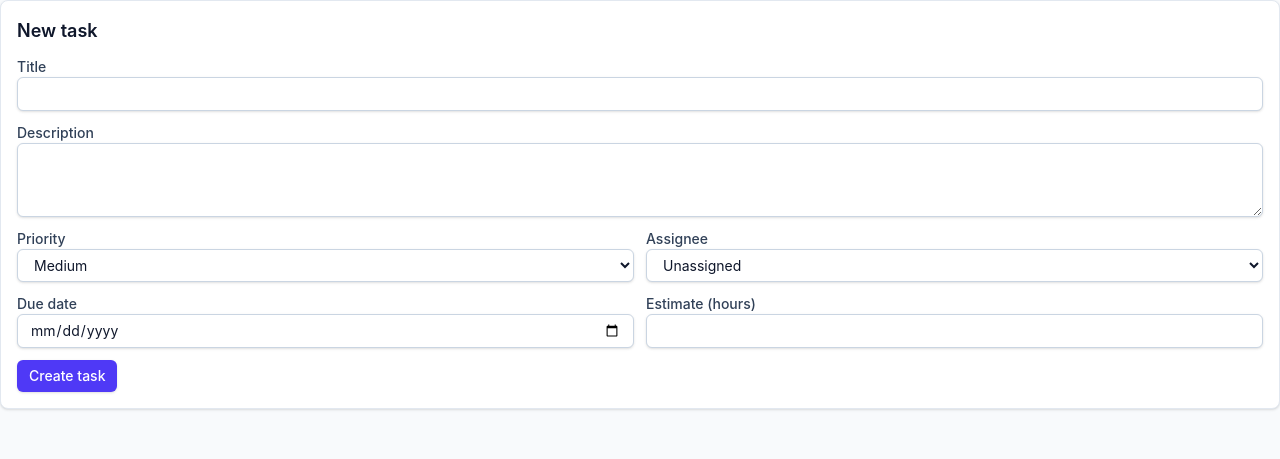
Test: CreateTaskForm submission › posts the task, reports it and resets the form
Type "  Plan the launch " into the field labelled "Title".
click(640, 94); type("  Plan the launch ")  # box [17,77,1263,111]
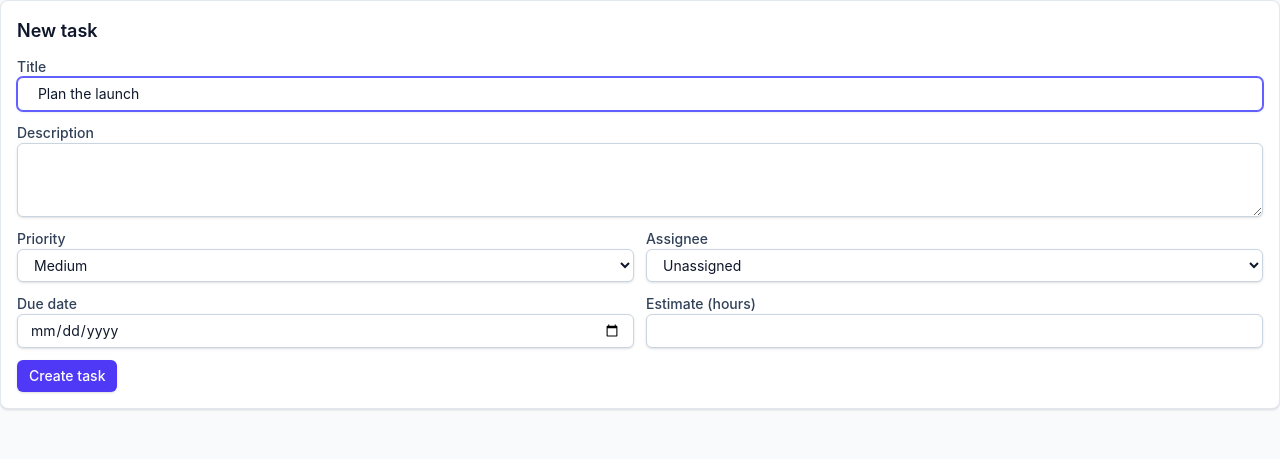
Select "High" in the dropdown labelled "Priority" at [326, 266], box [17,249,634,282]
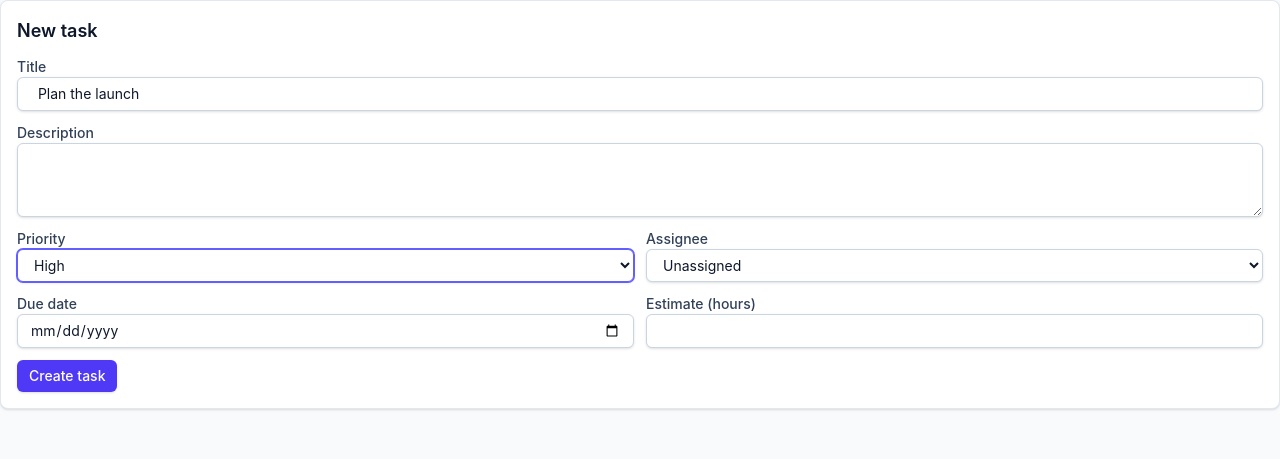
Select "Bob Member" in the dropdown labelled "Assignee" at [954, 266], box [646,249,1263,282]
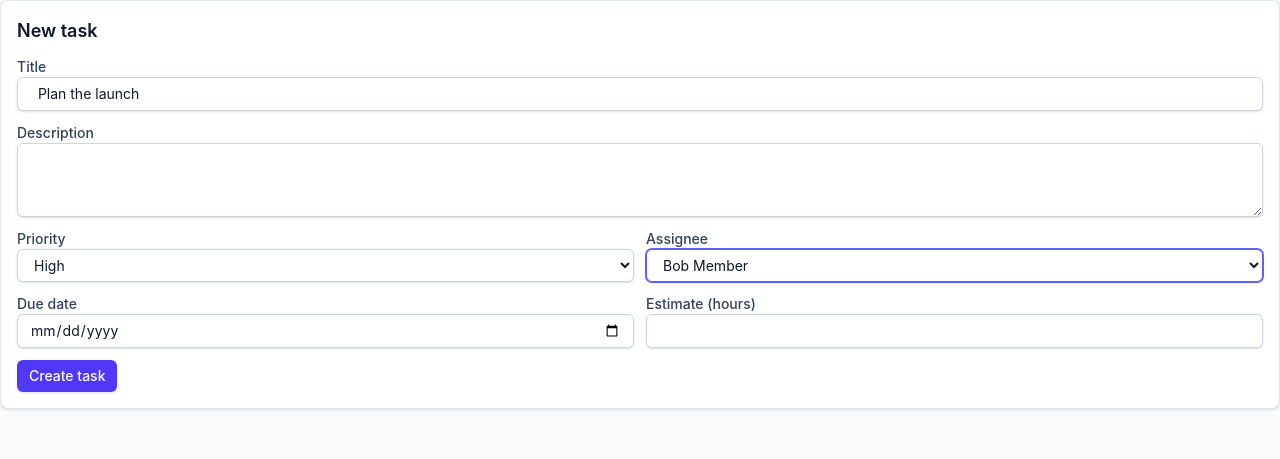
Type "2099-12-31" into the date field labelled "Due date".
click(326, 331); type("2099-12-31")  # box [17,314,634,348]
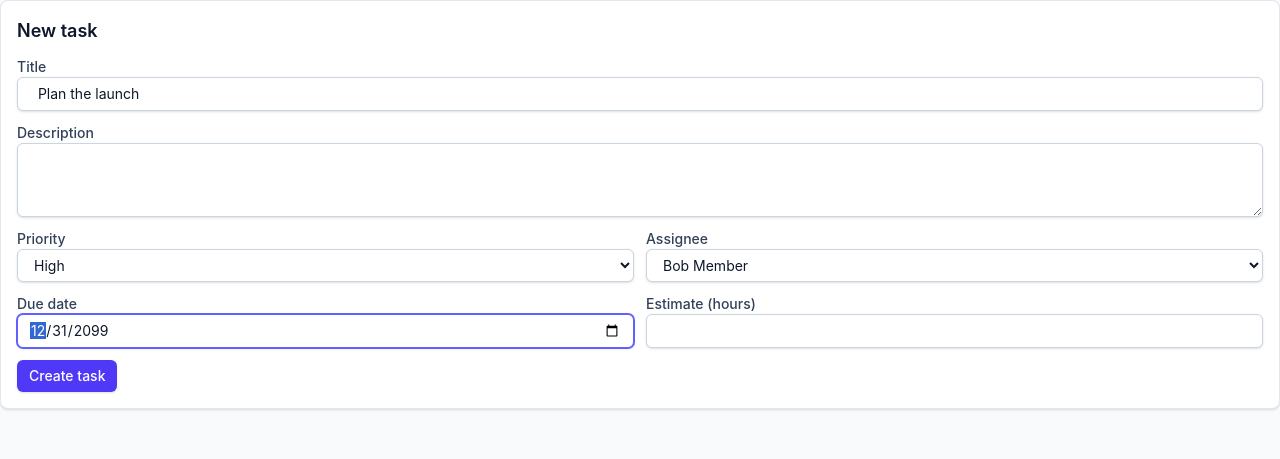
Type "5" into the number field labelled "Estimate (hours)".
click(954, 331); type("5")  # box [646,314,1263,348]
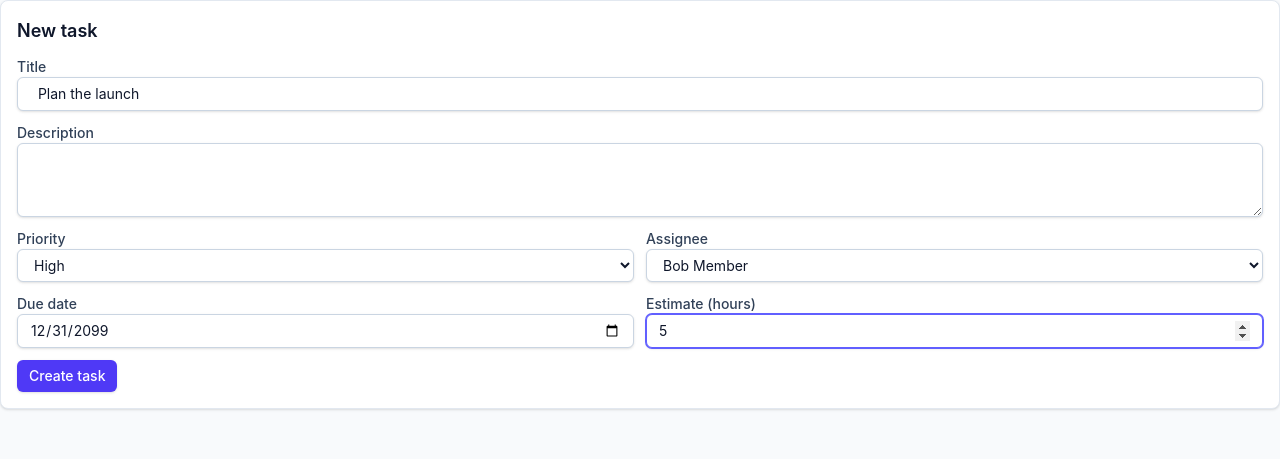
Click the button "Create task".
click(67, 376)  # box [17,360,118,392]
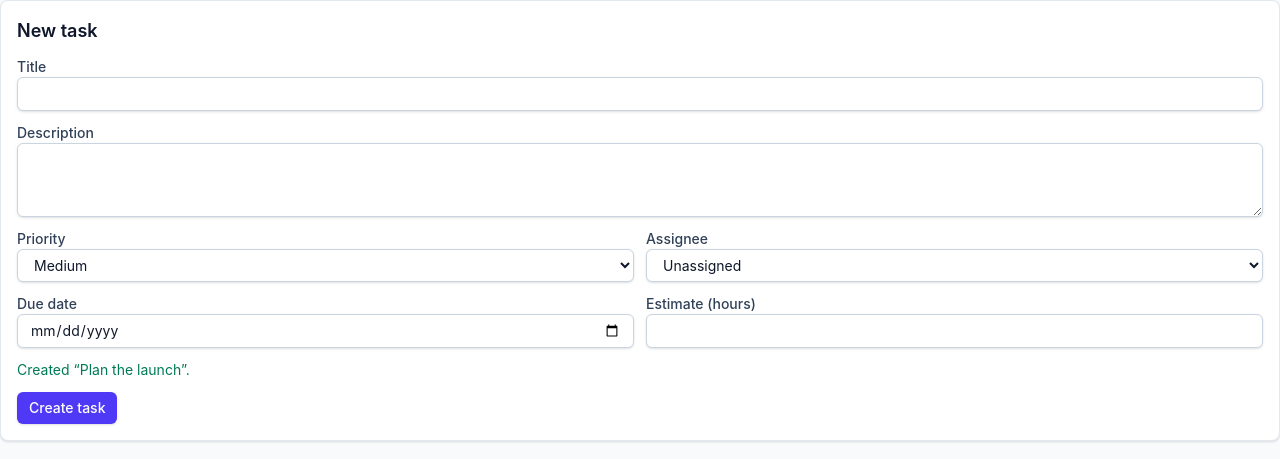
Expected: the message reads "Created “Plan the launch”.", [17,361,190,378]
Expected: the field labelled "Title" is empty, [17,77,1263,111]
